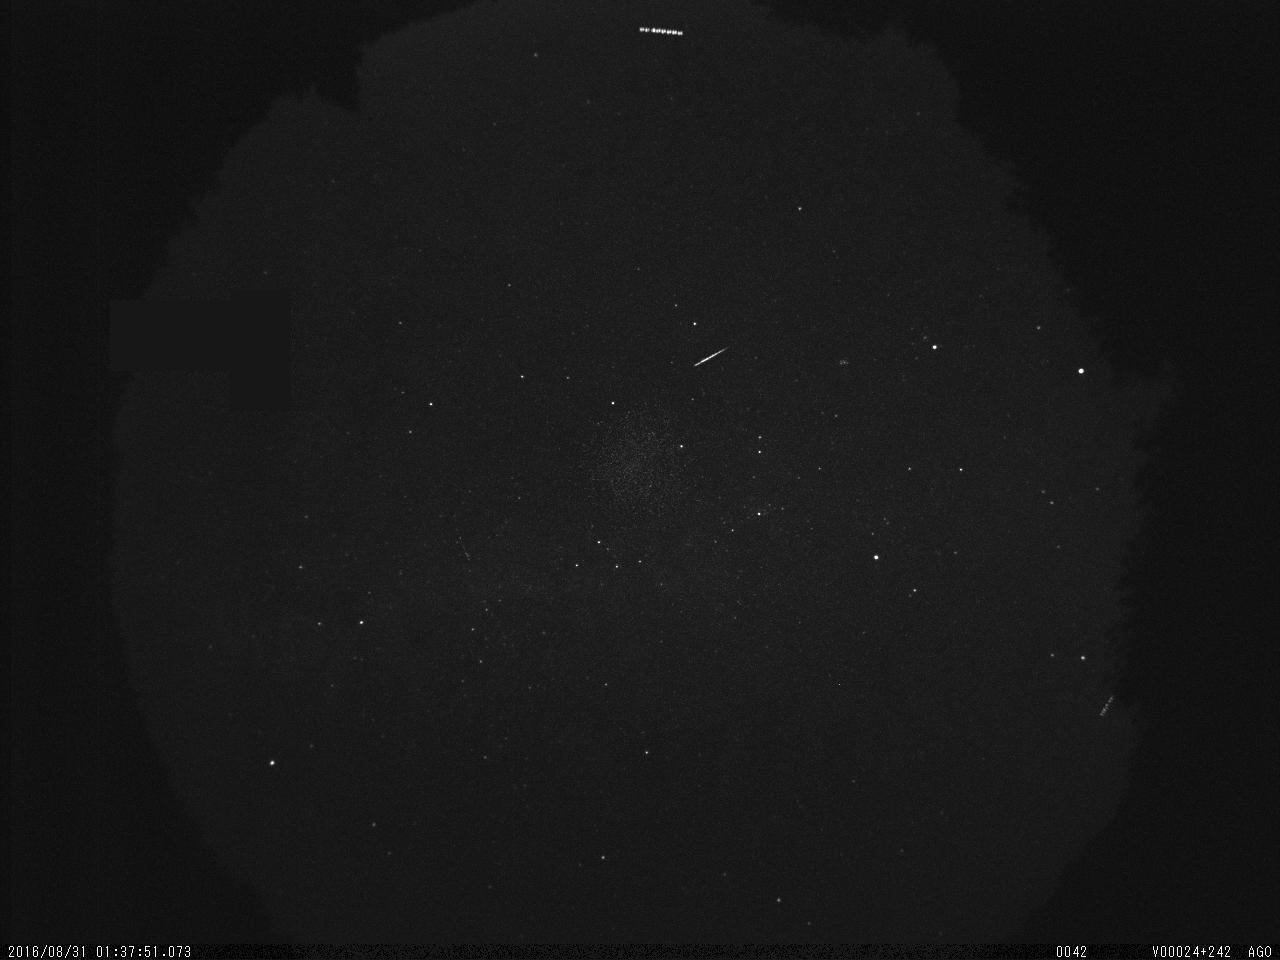Meteor: (692, 343, 731, 367)
